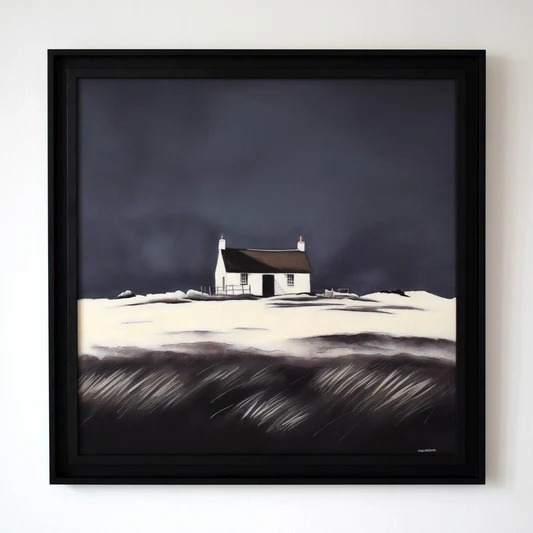painting: (48, 49, 487, 485)
